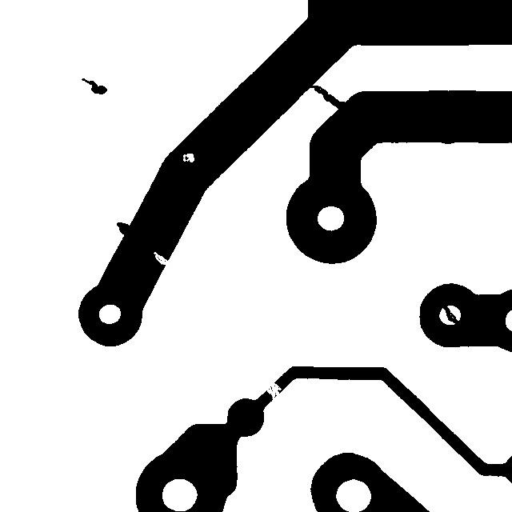copper: (74, 70, 114, 102)
mousebite: (146, 244, 177, 273)
open: (257, 371, 289, 407)
pin-hole: (175, 146, 202, 170)
short: (302, 78, 354, 116), (435, 297, 466, 331)
spur: (109, 214, 139, 243)
